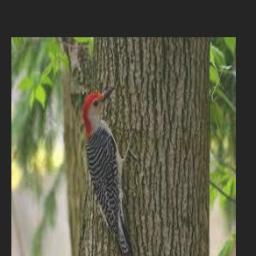Woodpecker: (82, 85, 138, 256)
